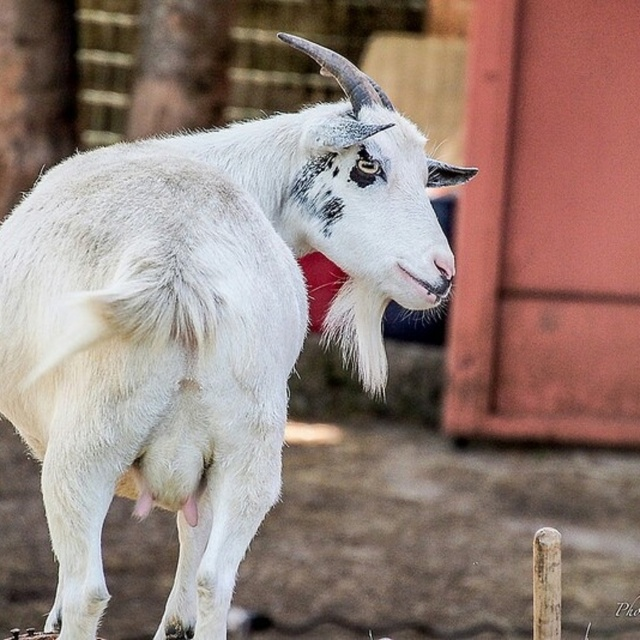Goat: (0, 32, 479, 639)
